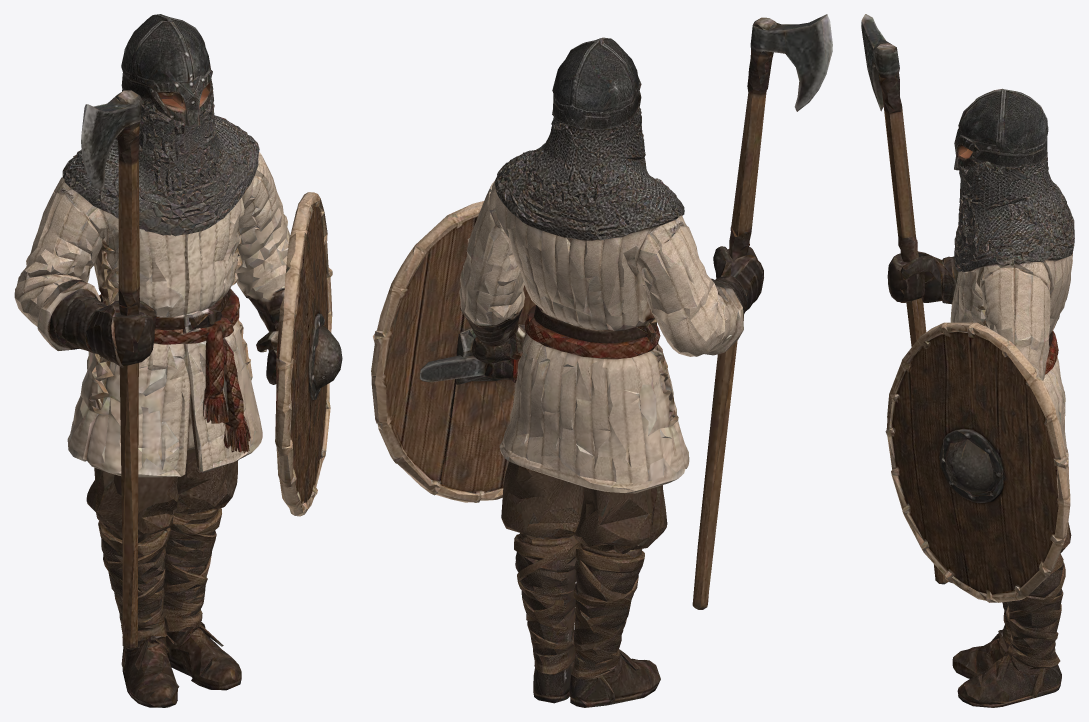
The model's file is hullsborg-assaillant.glb.
The picture shows the model from 3 angles, left to right: view 1: azimuth 30°, elevation 25°; view 2: azimuth 150°, elevation 25°; view 3: azimuth 270°, elevation 25°; orthographic projection. The views are drawn at different scales.
Visible parts, largest first — view 1: Mesh_0; view 2: Mesh_0; view 3: Mesh_0.
Part boxes in pixels (x1,y1,x2,y2): Mesh_0: [14, 14, 342, 707]; Mesh_0: [371, 14, 832, 707]; Mesh_0: [861, 14, 1074, 707].
Bounding box in the file's own units: 1.06 × 1.9 × 0.6114.
1 material, 1 textured.
